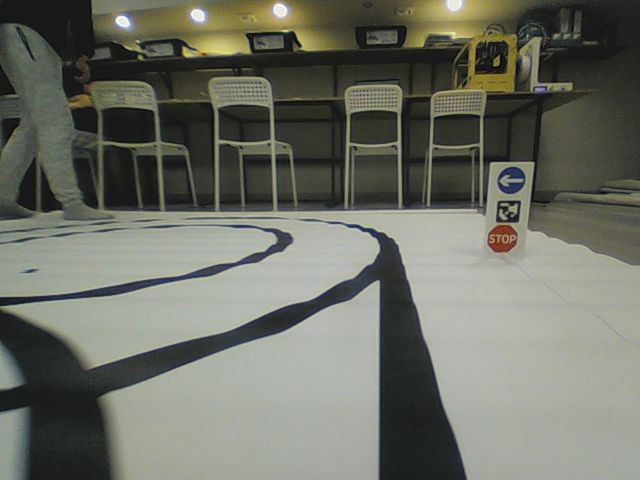Stop: (486, 223, 518, 254)
